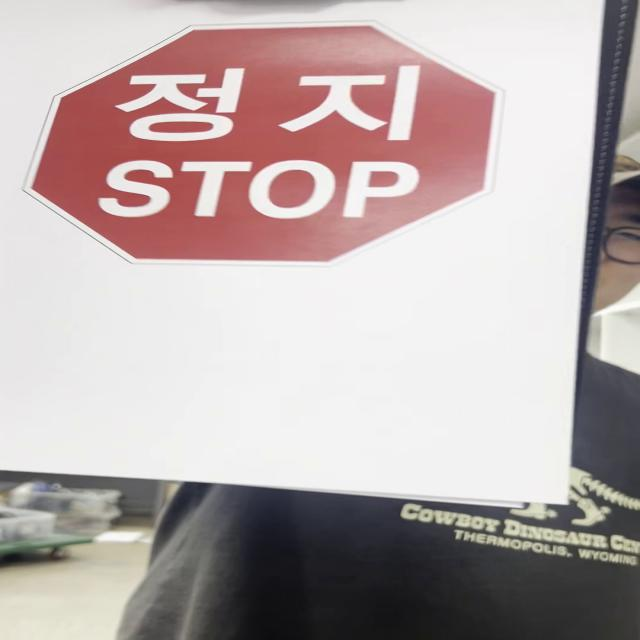stop: (28, 26, 494, 270)
